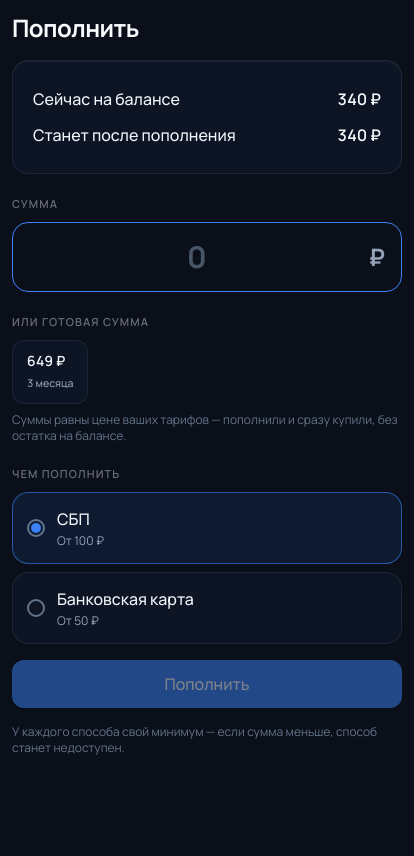
Test: SimpleTopUp › готовая сумма подставляется в поле
Click the button "649 ₽ 3 месяца".
click(50, 372)  # box x1=12 y1=340 x2=88 y2=404
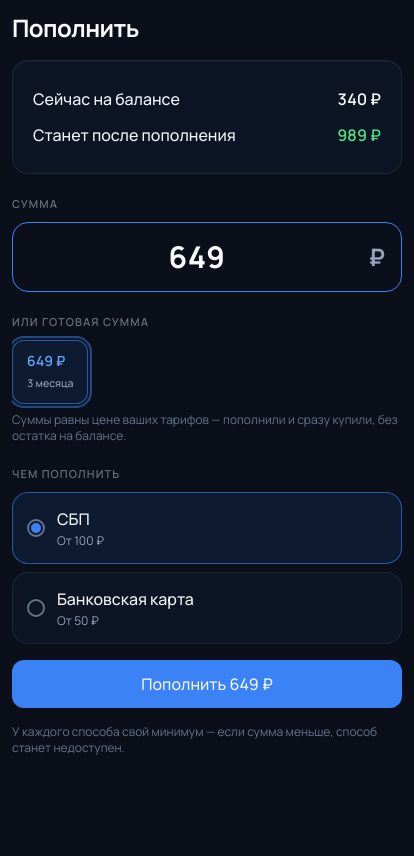
Expected: the number field labelled "Сумма" holds "649", x1=29 y1=239 x2=364 y2=275
